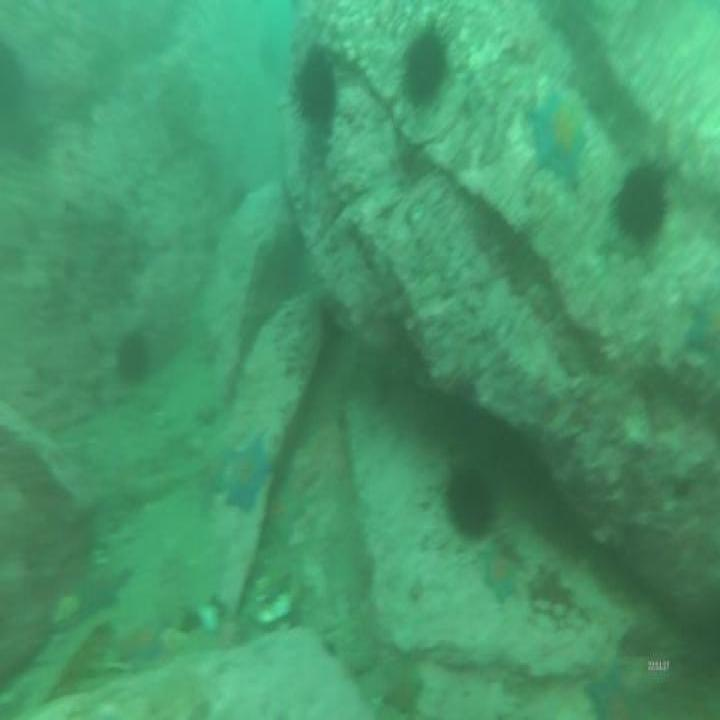echinus: (611, 154, 674, 252), (287, 37, 338, 139), (399, 21, 452, 119), (442, 462, 501, 544), (111, 322, 155, 393), (0, 39, 28, 142)
starfish: (524, 82, 592, 194), (224, 430, 276, 514), (580, 663, 650, 720), (256, 475, 308, 551), (110, 617, 170, 675), (480, 537, 524, 608)
